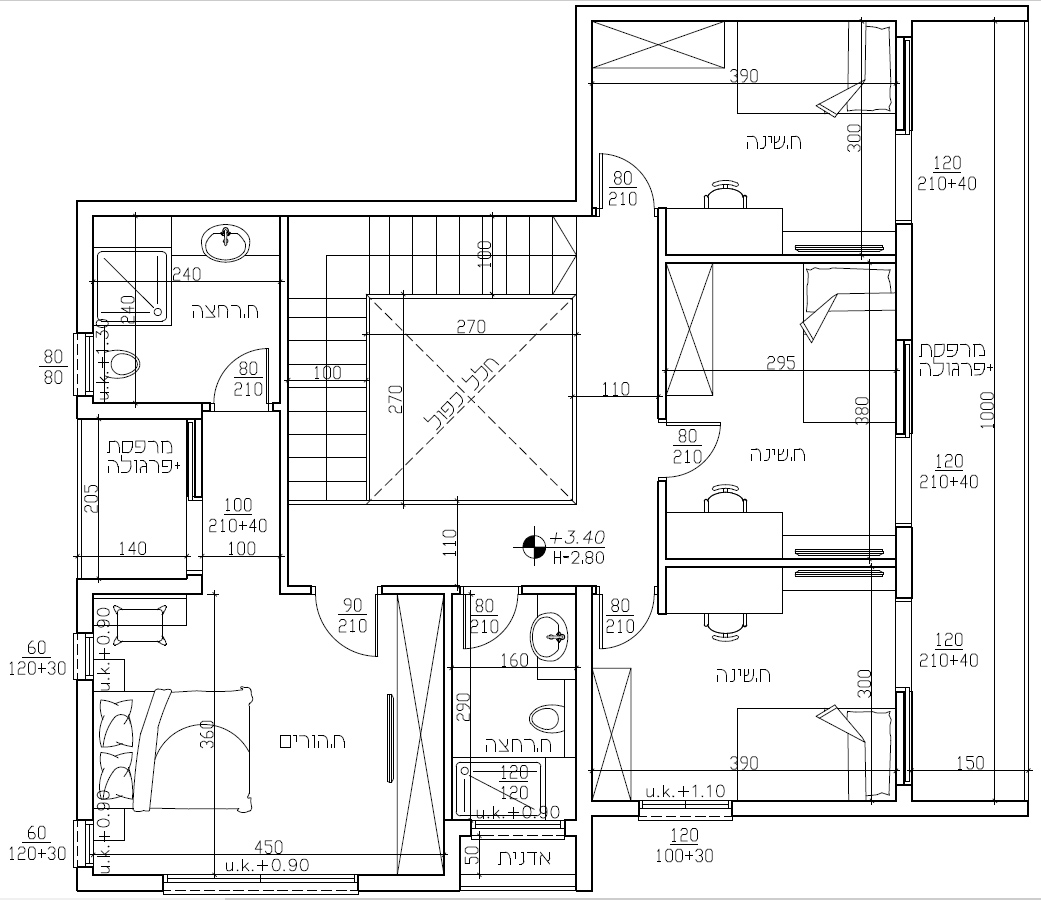window: (161, 870, 357, 900), (638, 796, 733, 825), (891, 336, 917, 437), (470, 817, 566, 842), (893, 688, 917, 785), (893, 36, 916, 136), (182, 419, 207, 502), (70, 333, 97, 399), (67, 819, 97, 869), (70, 632, 96, 681)
